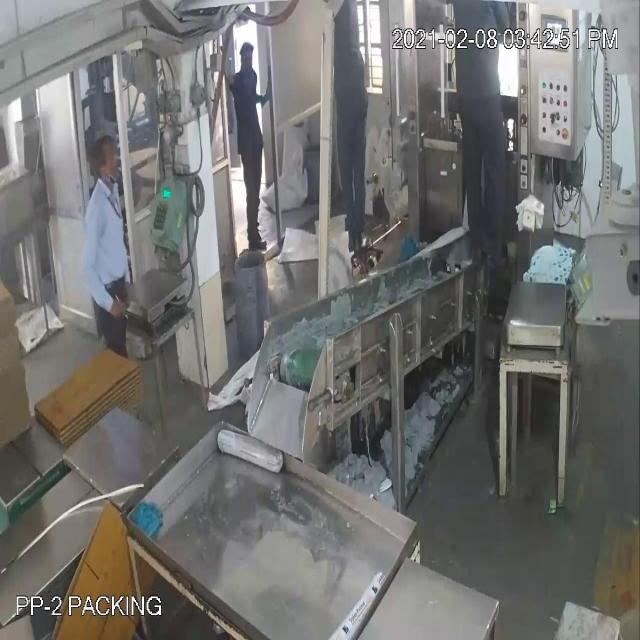No_Gloves: (79, 225, 127, 331)
